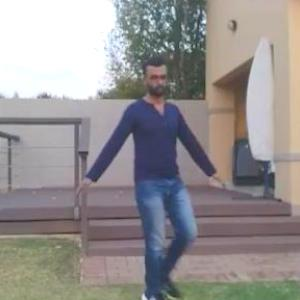land: (79, 73, 215, 295)
